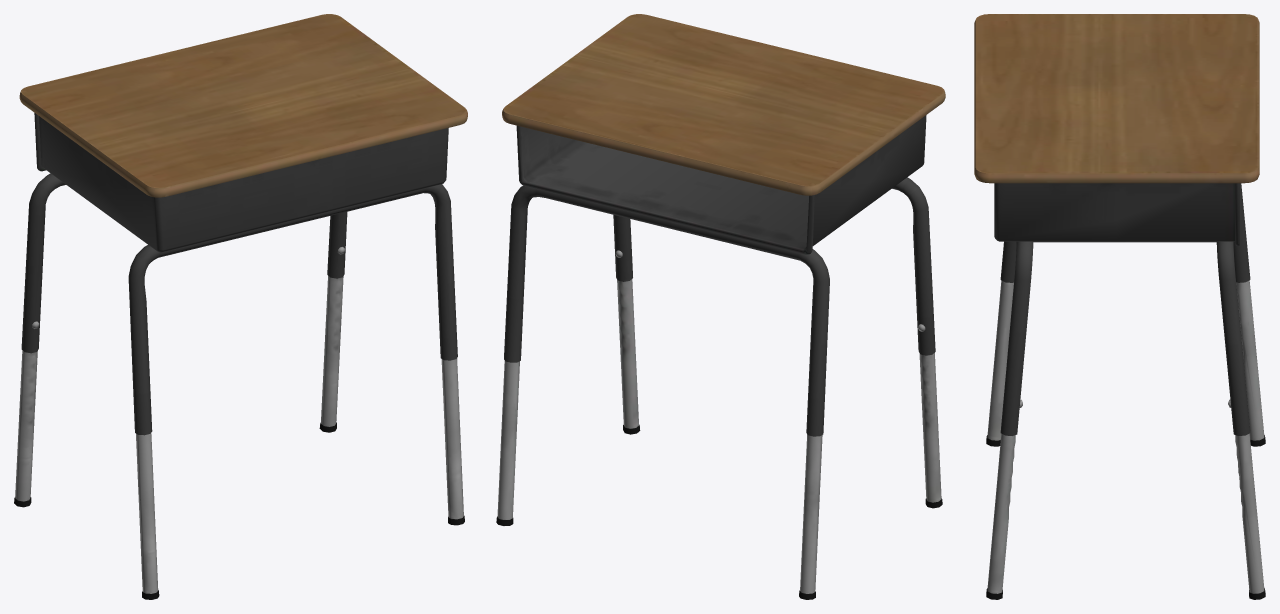
The model's file is school_desk.glb.
3 views of the same model, side by side, from view 1: azimuth 30°, elevation 25°; view 2: azimuth 150°, elevation 25°; view 3: azimuth 270°, elevation 25° (orthographic). The views are drawn at different scales.
Visible parts, largest first — view 1: SchoolDesk_01; view 2: SchoolDesk_01; view 3: SchoolDesk_01.
Part boxes in pixels (x1,y1,x2,y2): SchoolDesk_01: (14,14,467,599); SchoolDesk_01: (496,14,945,599); SchoolDesk_01: (974,14,1265,599).
Size of the model in its own units: 0.7117 by 0.8826 by 0.546.
1 material, 1 textured.
